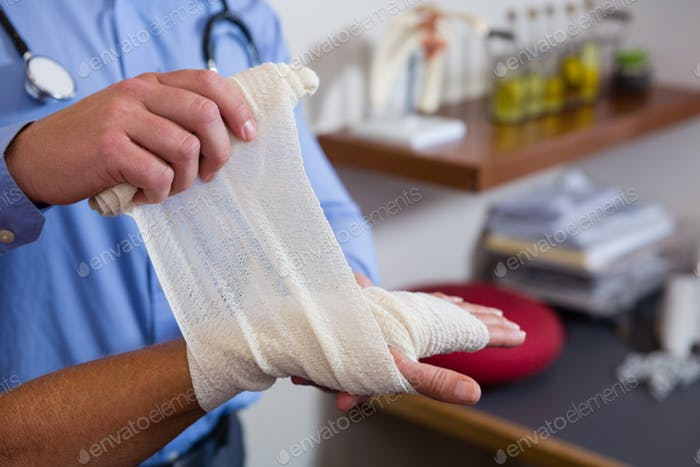injured: (117, 236, 541, 424)
